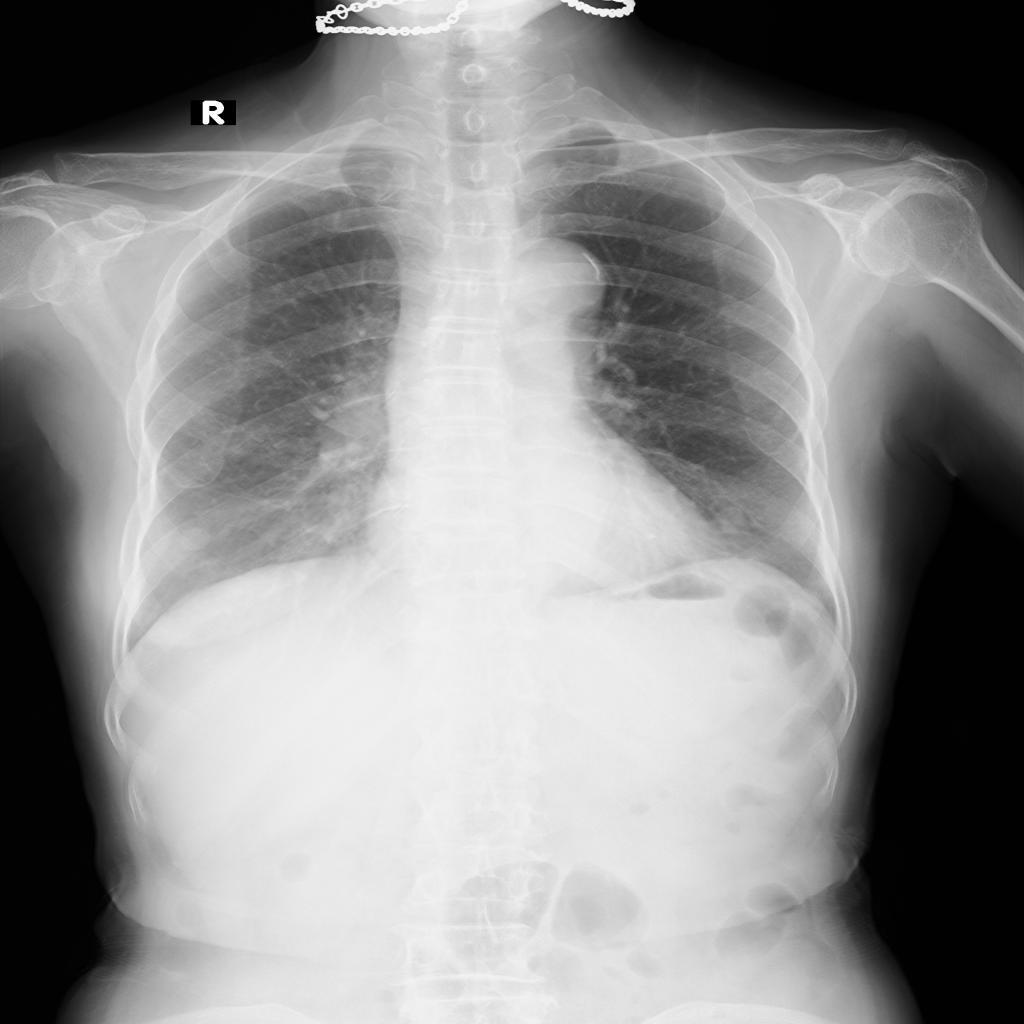Nodule: (179, 525, 213, 555)
